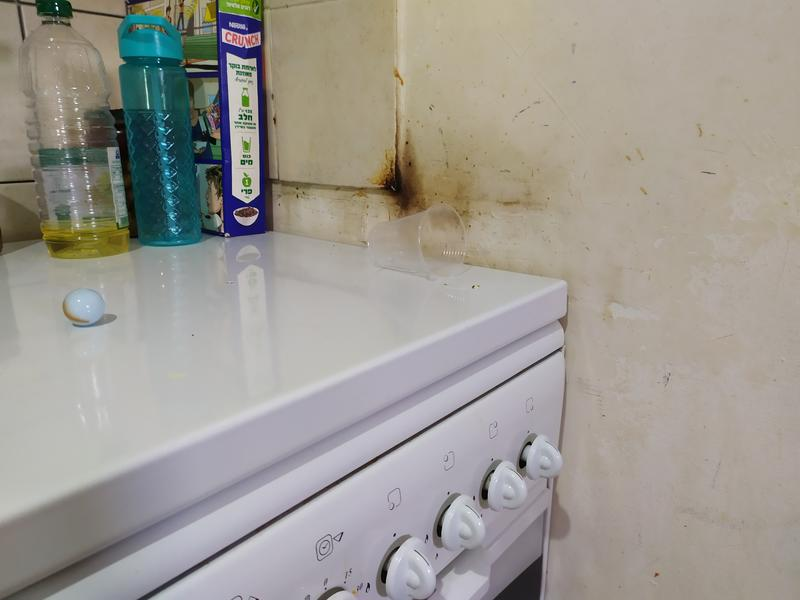Warning: (60, 285, 108, 328)
